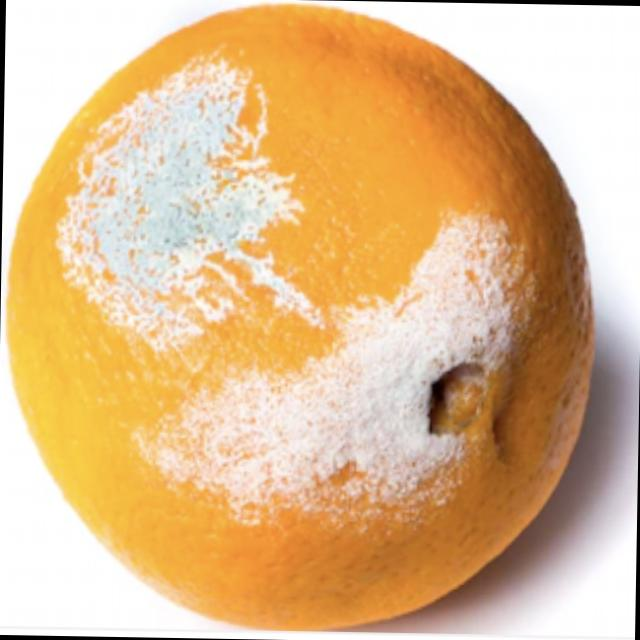rotten-orange: (1, 0, 601, 625)
